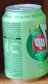sevenup: (3, 4, 48, 82)
